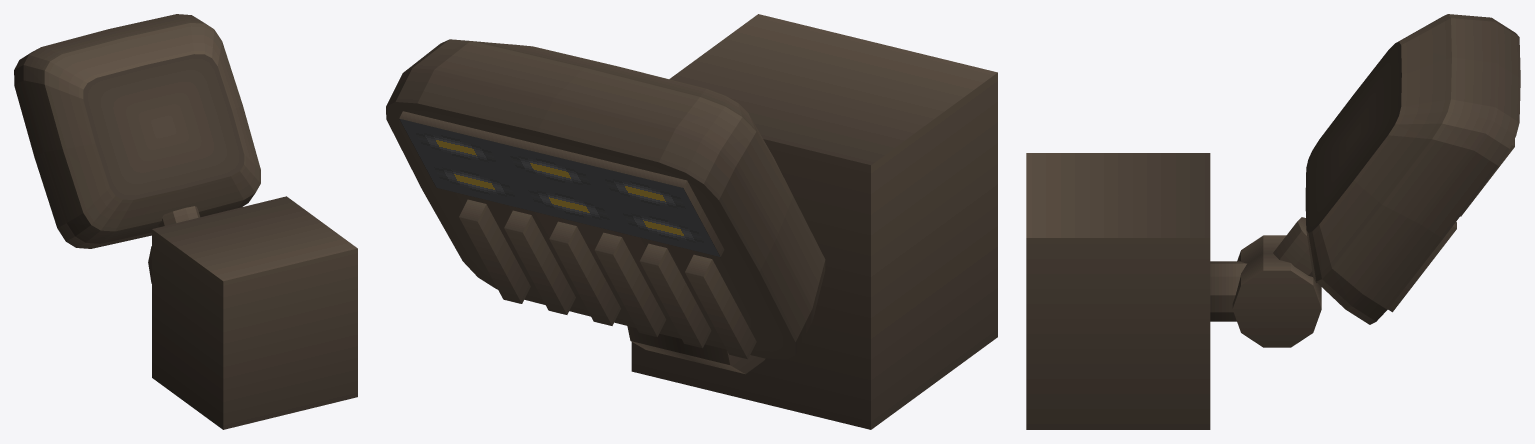
Rendered from floodlight_lithdsxf1sf.obj.
The picture shows the model from 3 angles, left to right: view 1: azimuth 30°, elevation 25°; view 2: azimuth 150°, elevation 25°; view 3: azimuth 270°, elevation 25°; orthographic projection. The views are drawn at different scales.
Parts seen in each view (by area): view 1: fixture; view 2: fixture; view 3: fixture.
Boxes of the visible parts, <box> form: fixture: <box>14,14,357,429</box>; fixture: <box>386,14,997,429</box>; fixture: <box>1026,14,1520,429</box>.
Size of the model in its own units: 0.317 by 0.4083 by 0.5542.
